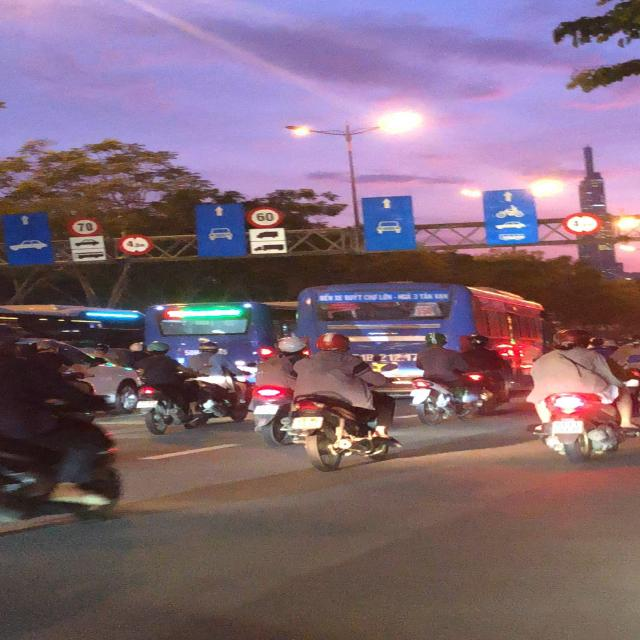Bien bao han che chieu cao: (561, 207, 604, 239), (118, 234, 155, 257)
Bien bao toc do toi da cho phep: (244, 206, 286, 230), (61, 214, 102, 236)
